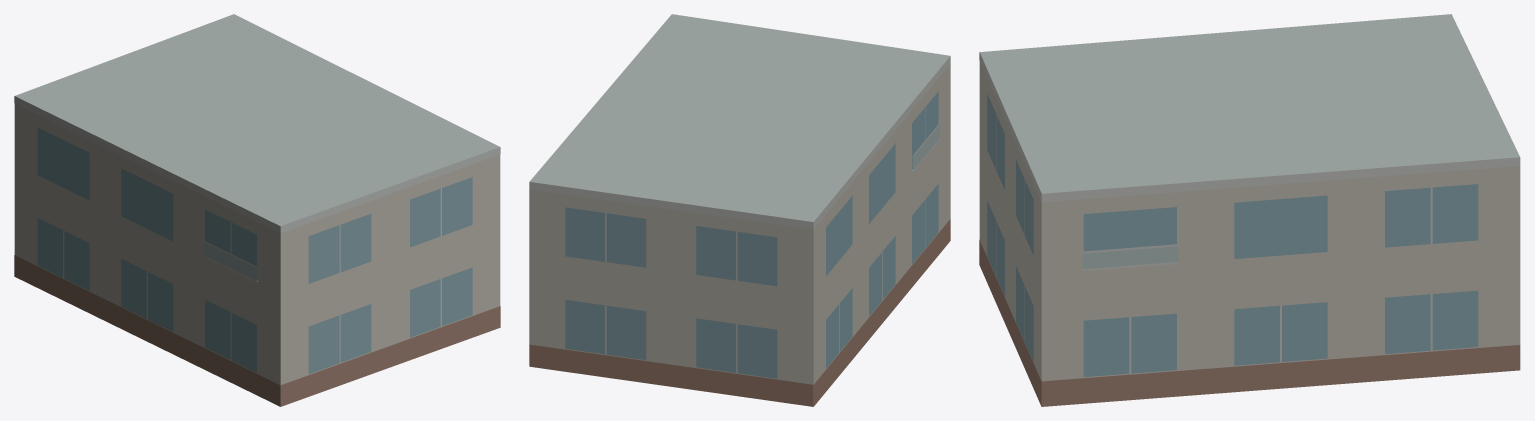
Rendered from survey-upis-32823695.glb.
The picture shows the model from 3 angles, left to right: view 1: azimuth 30°, elevation 25°; view 2: azimuth 150°, elevation 25°; view 3: azimuth 270°, elevation 25°; orthographic projection. The views are drawn at different scales.
Visible parts, largest first — view 1: survey-upis-32823695.tmp; view 2: survey-upis-32823695.tmp; view 3: survey-upis-32823695.tmp.
Part boxes in pixels (<box>): survey-upis-32823695.tmp: <box>14,14,500,406</box>; survey-upis-32823695.tmp: <box>529,14,950,406</box>; survey-upis-32823695.tmp: <box>979,14,1520,406</box>.
Bounding box in the file's own units: 11.04 × 6.1 × 14.04.
